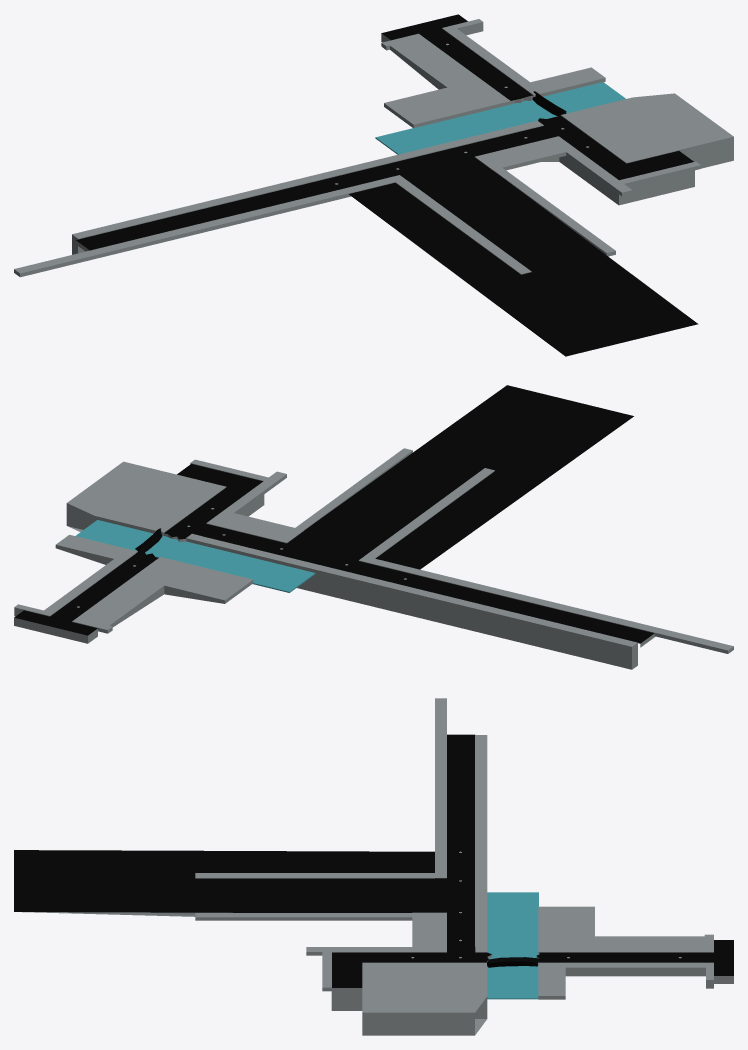
The model's file is RuasTutorial.fbx.
3 renders of one model, top to bottom at view 1: azimuth 30°, elevation 25°; view 2: azimuth 150°, elevation 25°; view 3: azimuth 270°, elevation 25°, orthographic. The views are drawn at different scales.
Visible parts, largest first — view 1: Cube.074, Rio; view 2: Cube.074, Rio; view 3: Cube.074, Rio.
Part boxes in pixels (bbox=[...]): Cube.074: bbox=[14, 14, 733, 356]; Rio: bbox=[375, 82, 625, 154]; Cube.074: bbox=[14, 385, 733, 669]; Rio: bbox=[75, 520, 315, 592]; Cube.074: bbox=[14, 698, 733, 1035]; Rio: bbox=[487, 892, 538, 999].
Bounding box in the file's own units: 24765 × 1093 × 23964.
